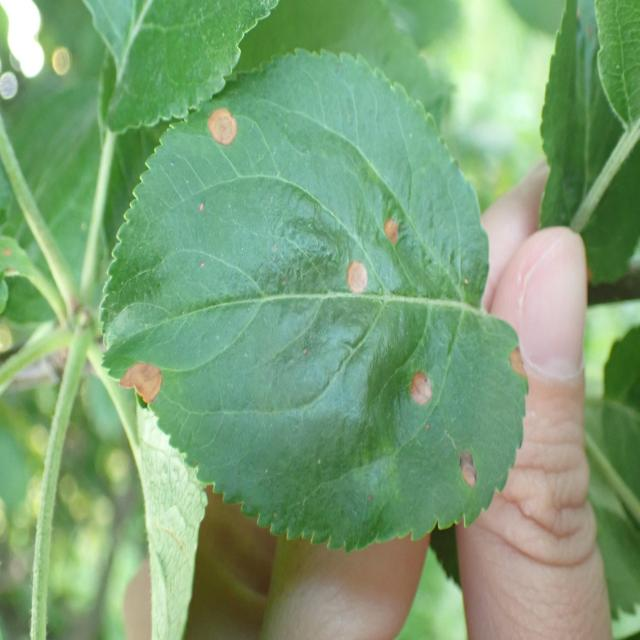frog-eye-leaf-spot: (99, 48, 534, 558)
